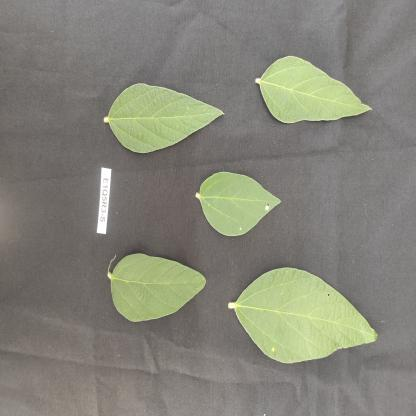label: (96, 162, 120, 232)
leaflets: (234, 264, 402, 354), (250, 26, 386, 132), (92, 60, 235, 154), (102, 235, 212, 331), (197, 169, 291, 246)
